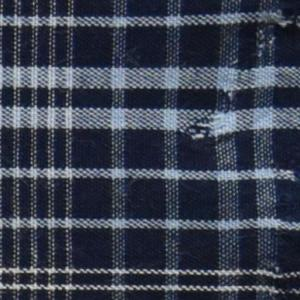Damage: (177, 1, 300, 224), (251, 257, 300, 300)
